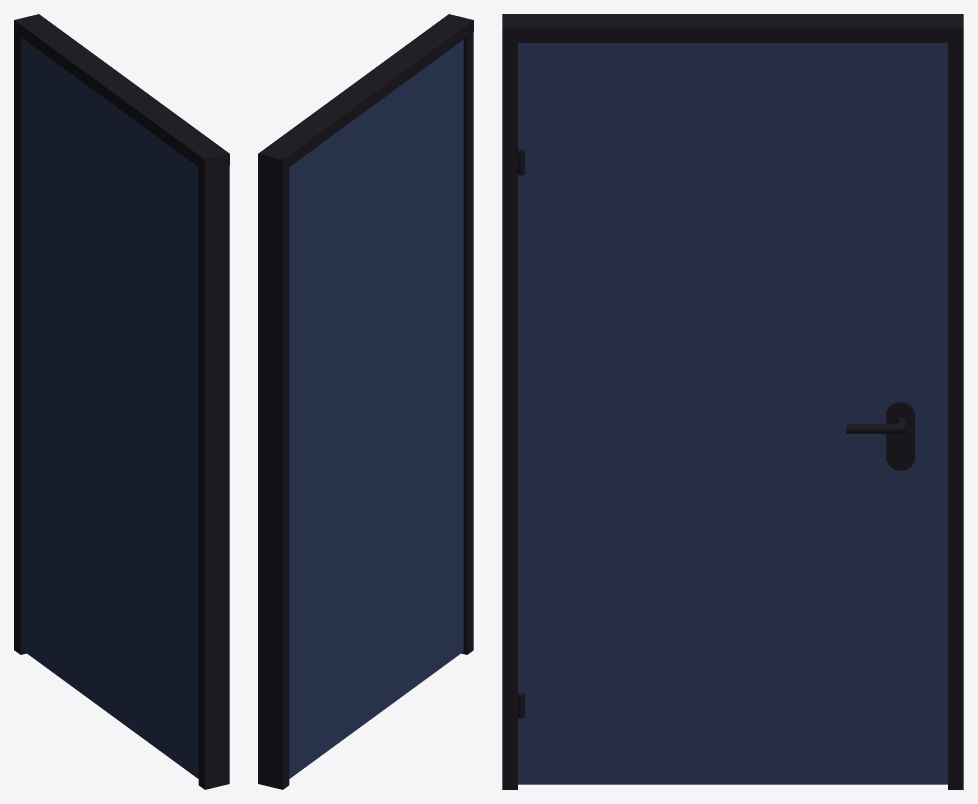
Rendered from door.glb.
3 views of the same model, side by side, from view 1: azimuth 30°, elevation 25°; view 2: azimuth 150°, elevation 25°; view 3: azimuth 270°, elevation 25° (orthographic). The views are drawn at different scales.
Parts seen in each view (by area): view 1: plain door, top; view 2: plain door, top; view 3: plain door, top, handleplate.
Part boxes in pixels (<box>): plain door: <box>24,40,198,778</box>; top: <box>14,14,229,789</box>; plain door: <box>289,40,463,778</box>; top: <box>258,14,473,789</box>; plain door: <box>518,43,947,784</box>; top: <box>502,14,963,789</box>; handleplate: <box>846,401,914,470</box>.
Size of the model in its own units: 0.131 by 2.03 by 1.12.
